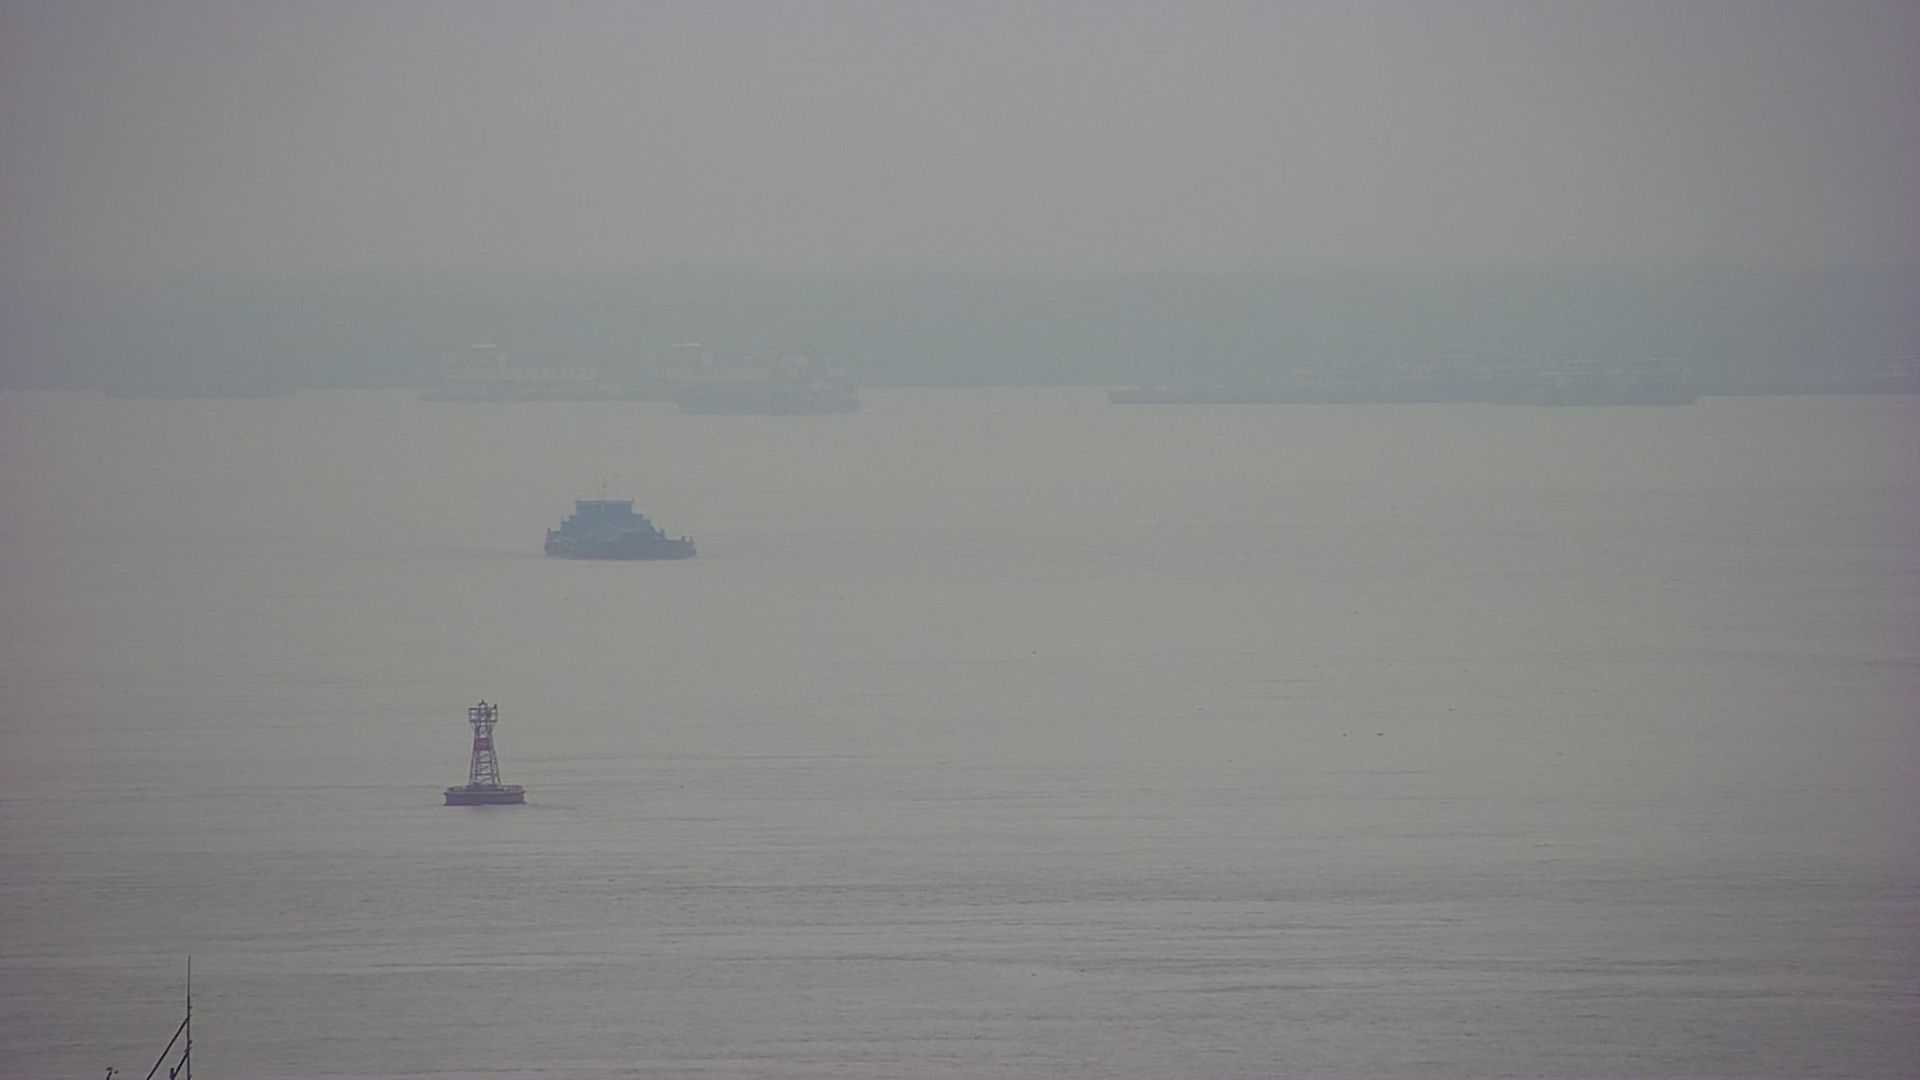buoy: (444, 694, 522, 814)
mast: (99, 947, 200, 1080)
ship: (545, 485, 699, 564)
